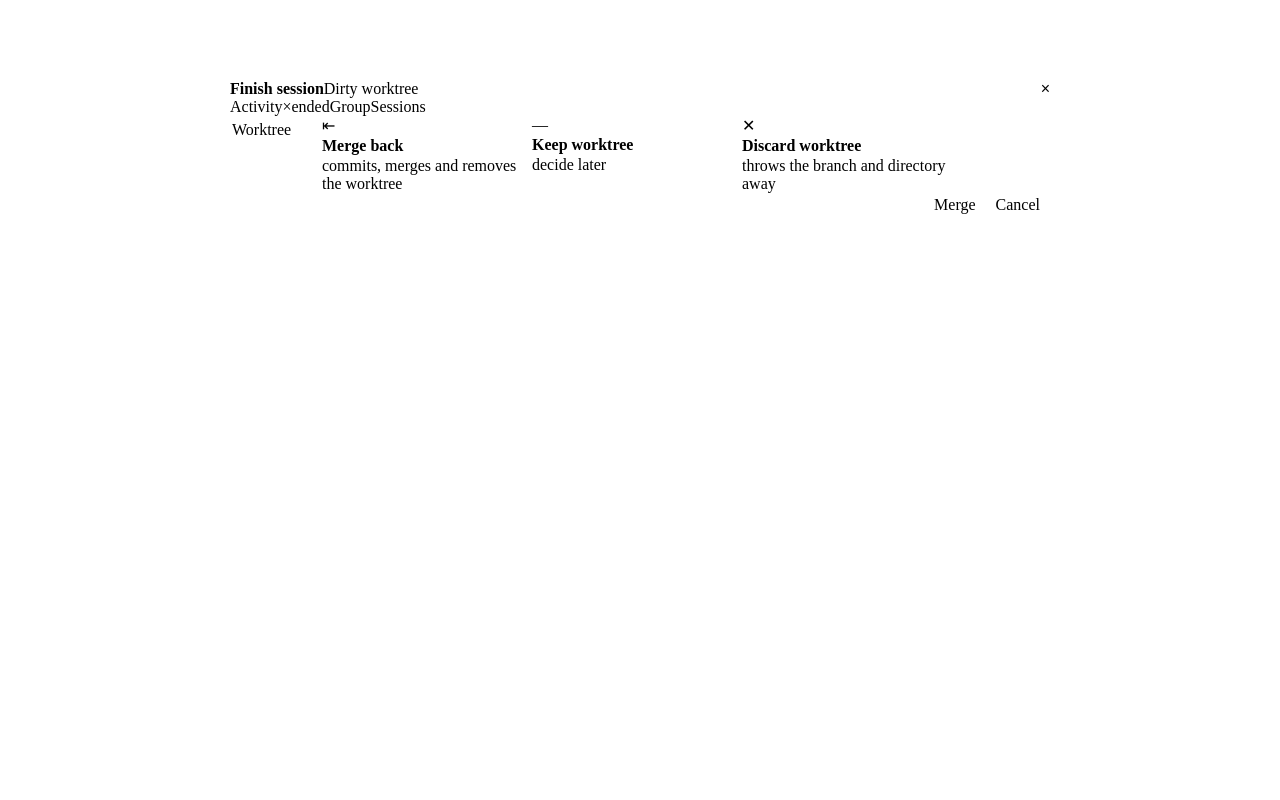
Test: app-client-ui/renderer/overlays/finalize/finalizeOverlay › drops the agreement when another choice is made
The image size is (1280, 800).
Click the button with class "jamat-finalize__button--primary".
click(955, 205)  # box [924,193,986,217]
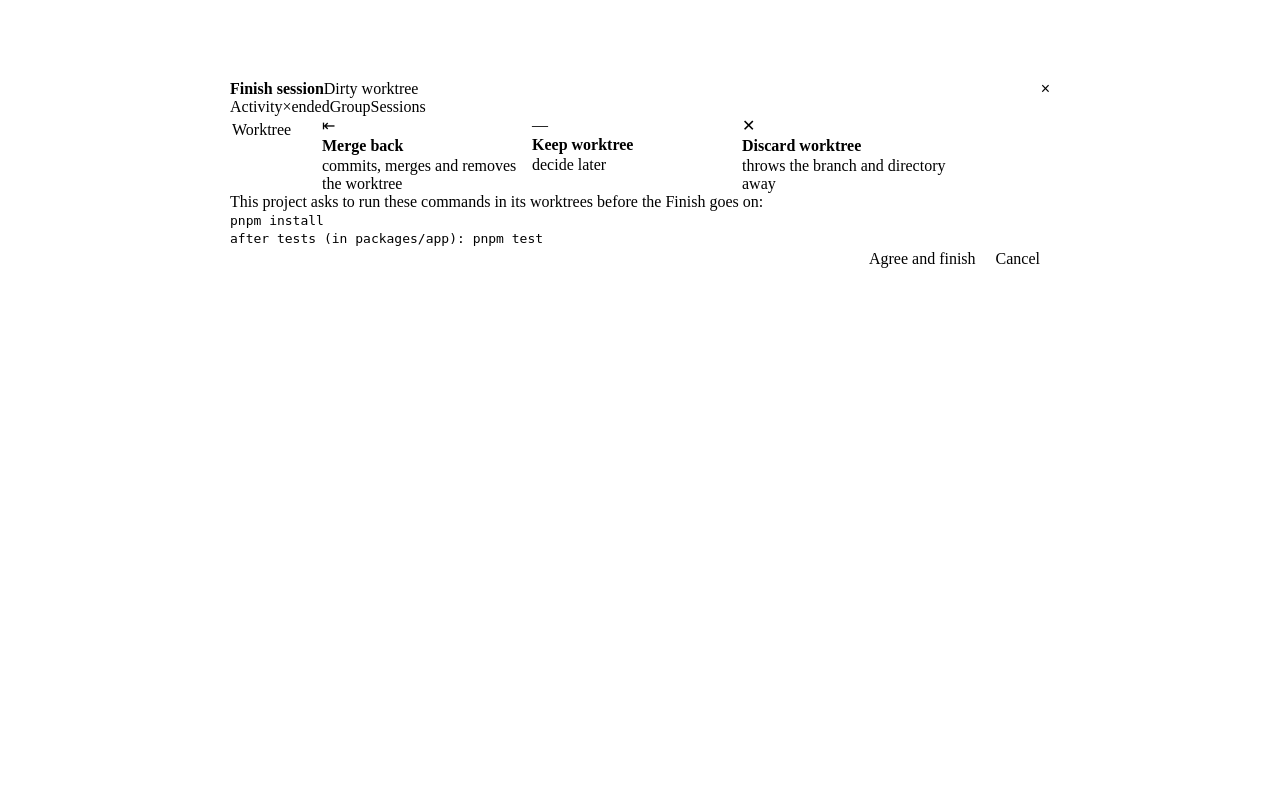
expect the element with class "jamat-finalize__agreement" is shown: met, box [230,193,763,246]
Click the button with class "jamat-choice__card" showing "— Keep worktree decide later".
click(637, 154)  # box [532,116,742,193]
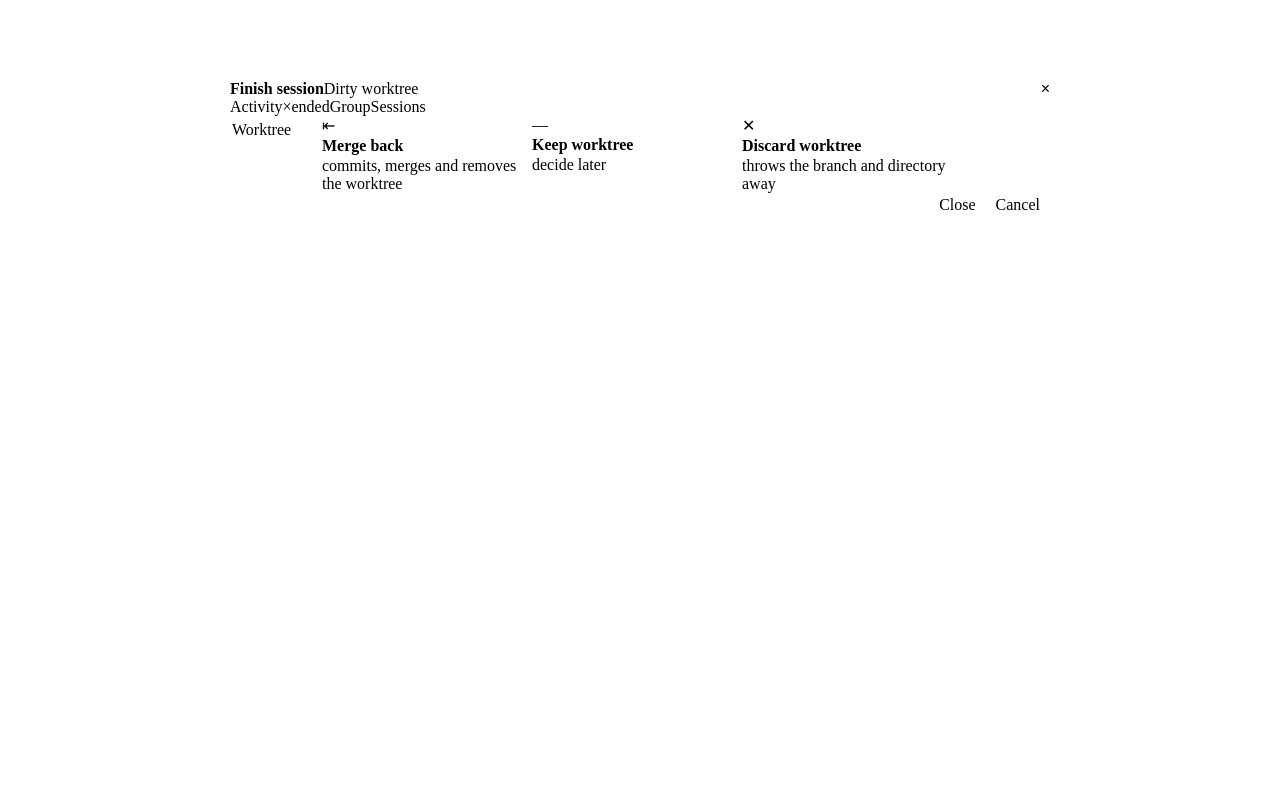
expect the element with class "jamat-finalize__agreement" is gone: met
expect the button with class "jamat-finalize__button--primary" reads "Close": met, box [929,193,986,217]
